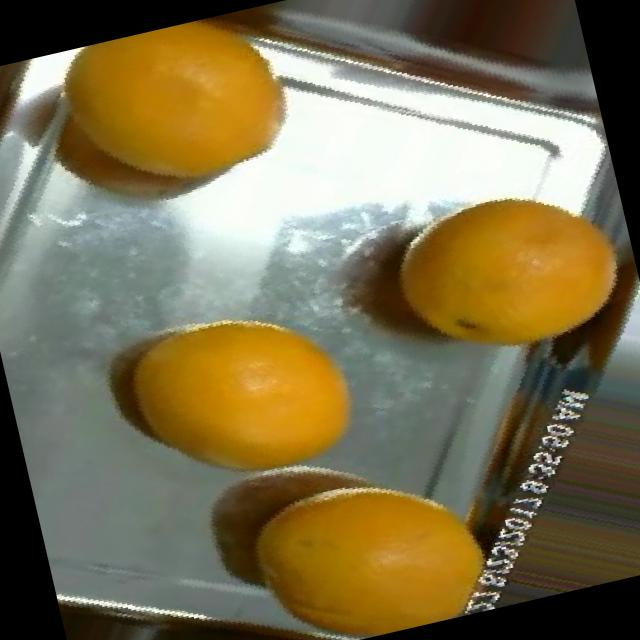Fruit: (330, 160, 595, 412)
